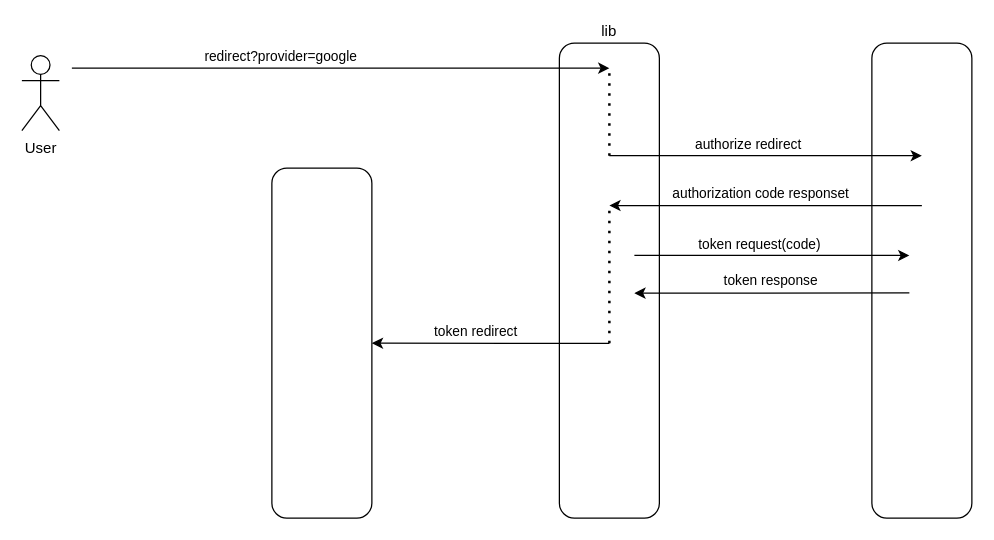
The diagram is 994 pixels wide and 540 high, and some of its shapes have lost their labels. Each missing label, with the box of its shape:
app: (271, 167, 372, 518)
oauth provider: (871, 42, 972, 518)
